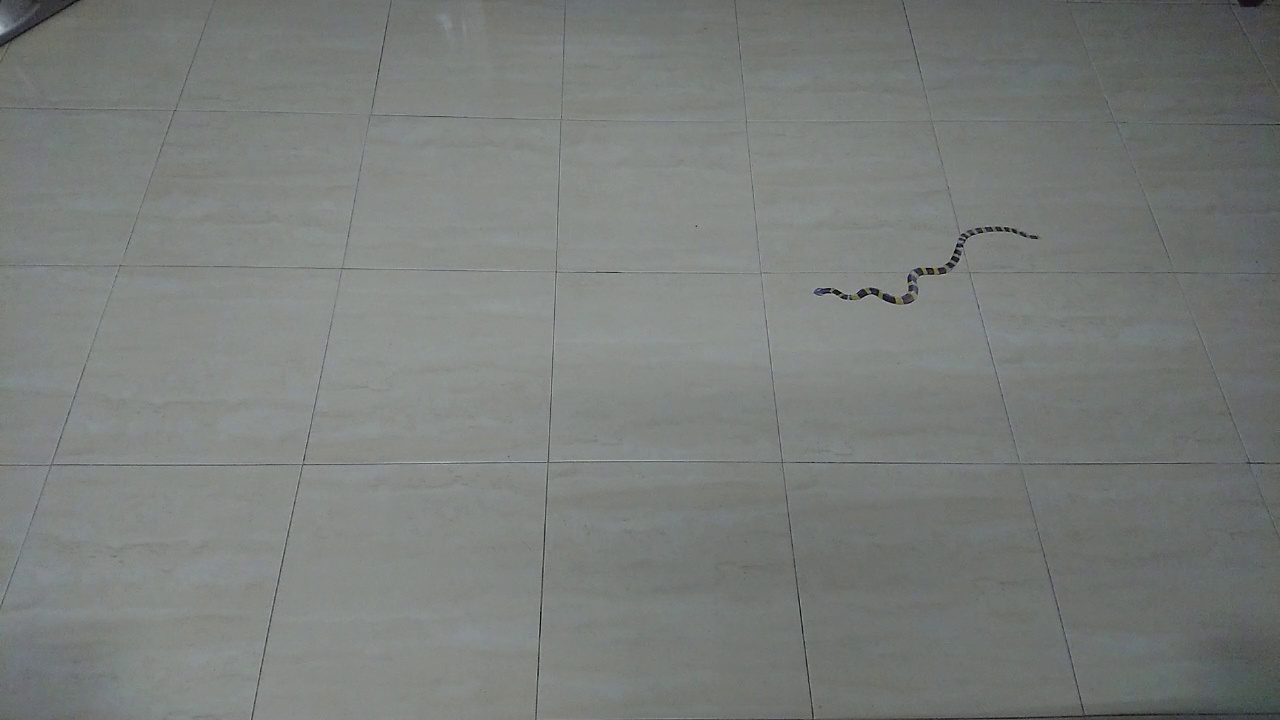snake: (791, 214, 1057, 323)
